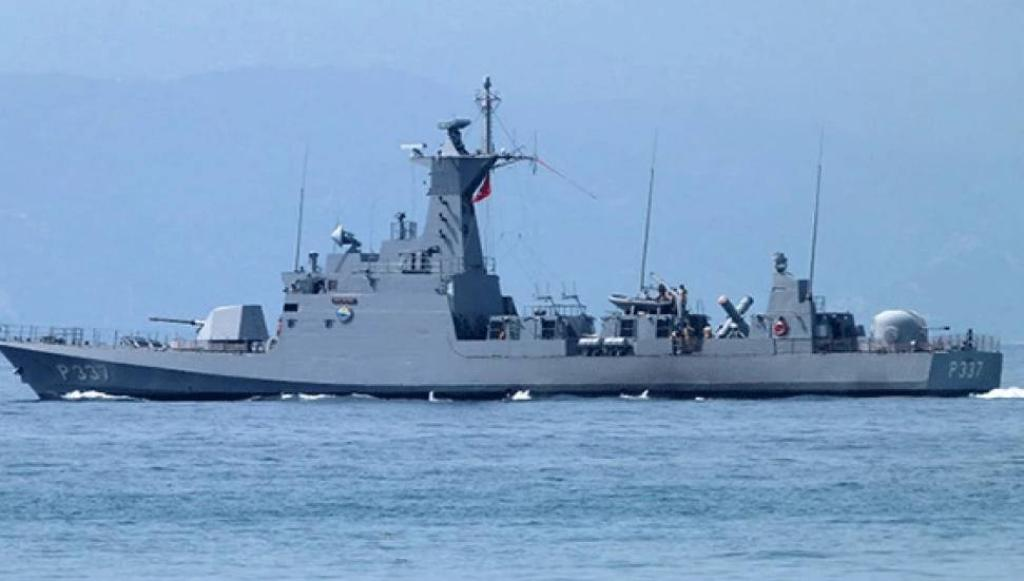Warship: (2, 62, 1004, 406)
